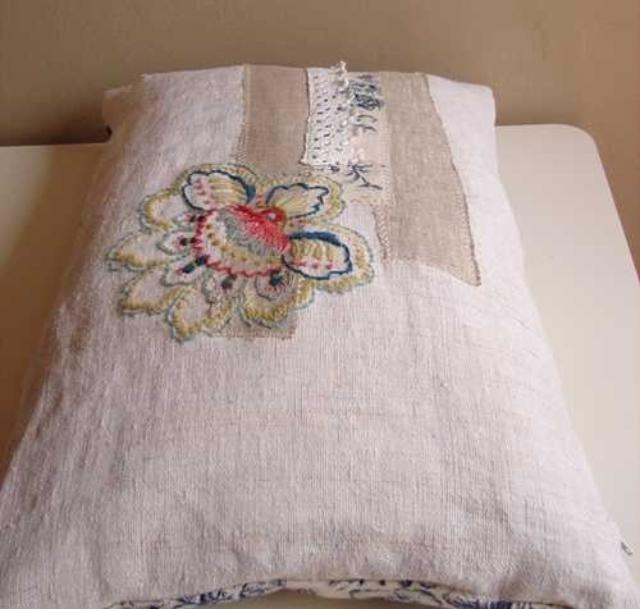pillow: (0, 60, 638, 608)
